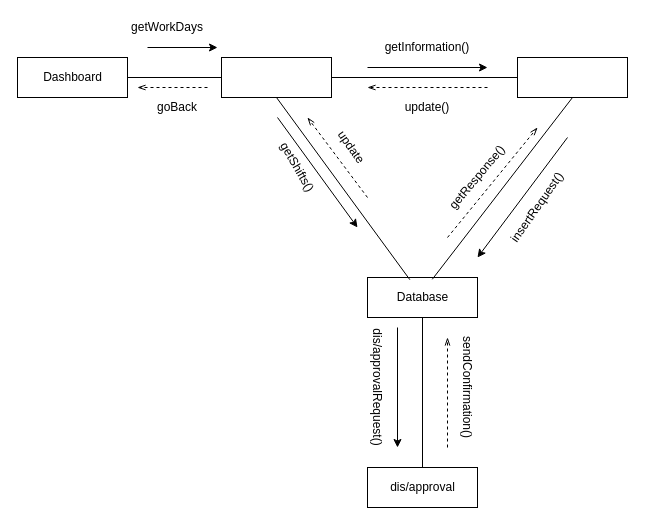
The diagram is 645 pixels wide and 525 high, and some of its shapes have lost their labels. The centre of each missing label's shape, as x and y in pixels:
"Employee Calendar" goes at (276,77).
"Shift" goes at (572,77).
